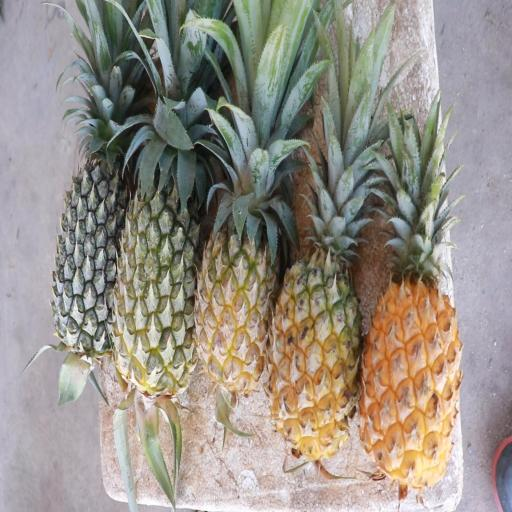------------------------------: (119, 129, 202, 404)
Pineapple - v8 v1: (366, 252, 461, 490), (274, 210, 362, 458), (193, 161, 283, 396)
